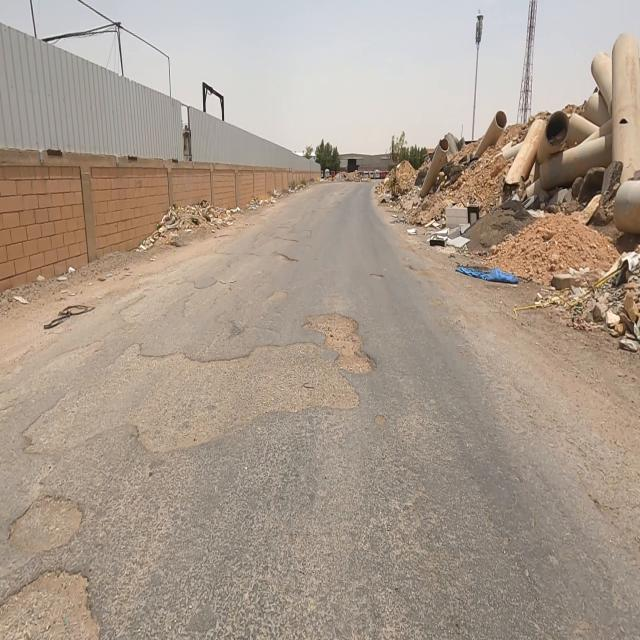Pothole: (26, 313, 374, 453), (0, 571, 99, 640), (10, 498, 81, 553), (118, 280, 194, 325), (184, 281, 228, 316), (48, 342, 100, 371), (268, 289, 288, 302)
